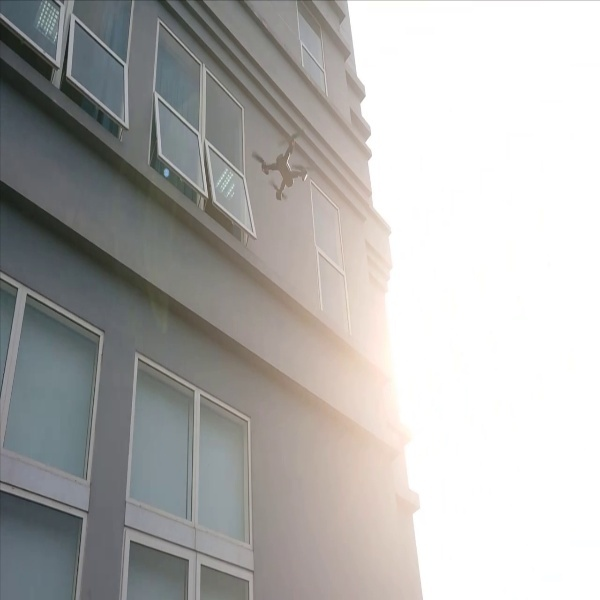drone: (246, 127, 321, 210)
